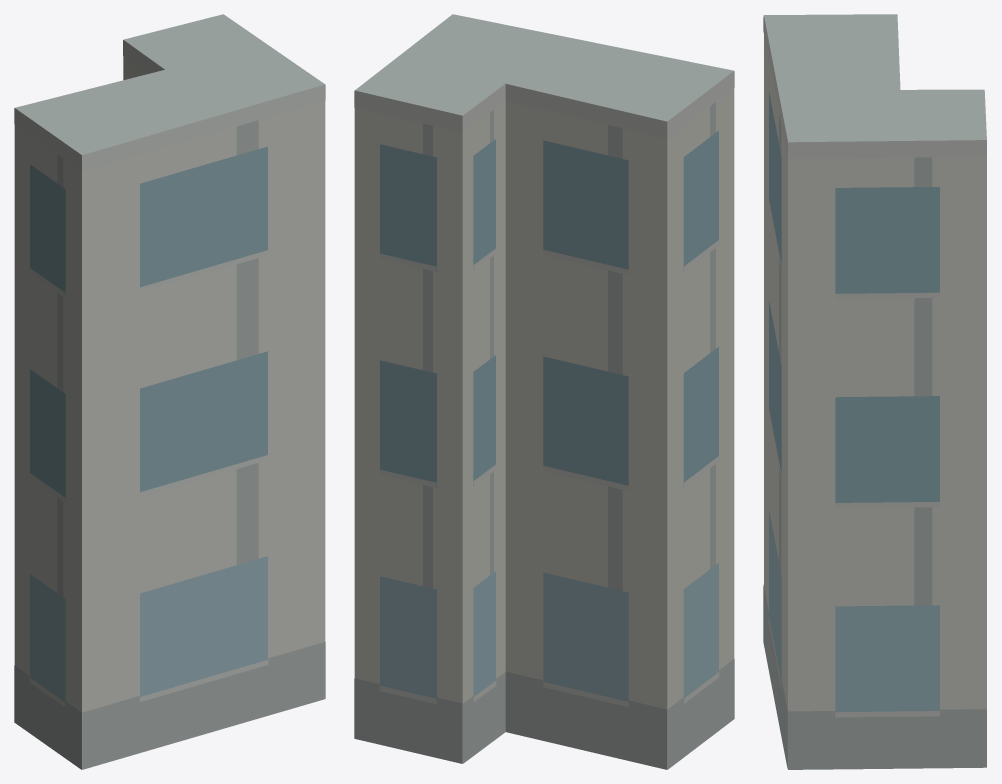
Rendered from survey-upis-32943664.glb.
3 renders of one model, left to right at view 1: azimuth 30°, elevation 25°; view 2: azimuth 150°, elevation 25°; view 3: azimuth 270°, elevation 25°, orthographic. The views are drawn at different scales.
Parts seen in each view (by area): view 1: survey-upis-32943664.tmp; view 2: survey-upis-32943664.tmp; view 3: survey-upis-32943664.tmp.
Boxes of the visible parts, x1,y1,x2,y2 form: survey-upis-32943664.tmp: [14, 14, 325, 769]; survey-upis-32943664.tmp: [354, 14, 734, 769]; survey-upis-32943664.tmp: [763, 14, 986, 769].
Bounding box in the file's own units: 4.02 × 9.15 × 2.96.
